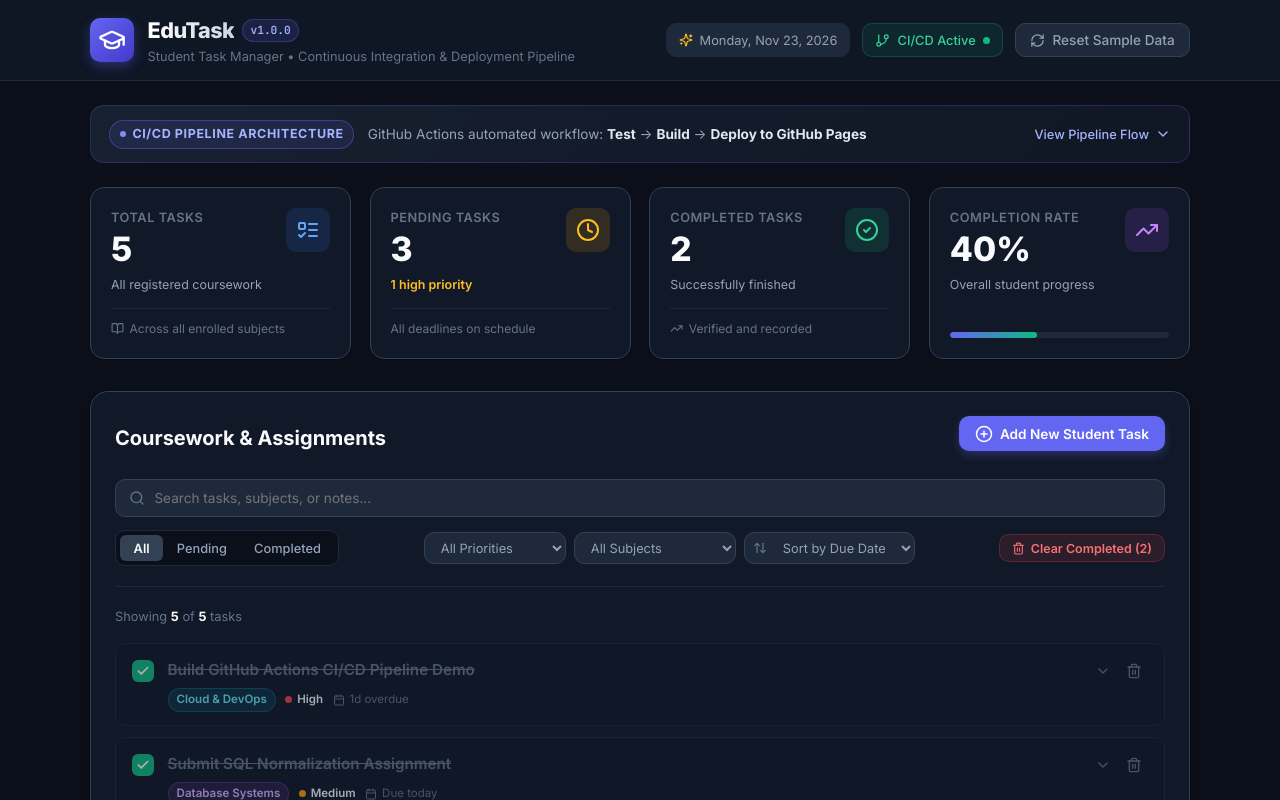
Scenario: Student Task Manager - App & CI/CD Automated Tests › filters tasks by search input
In the field labelled "Search tasks, subjects, or notes...": (640, 498) [115,479,1165,517], type "Binary Search"
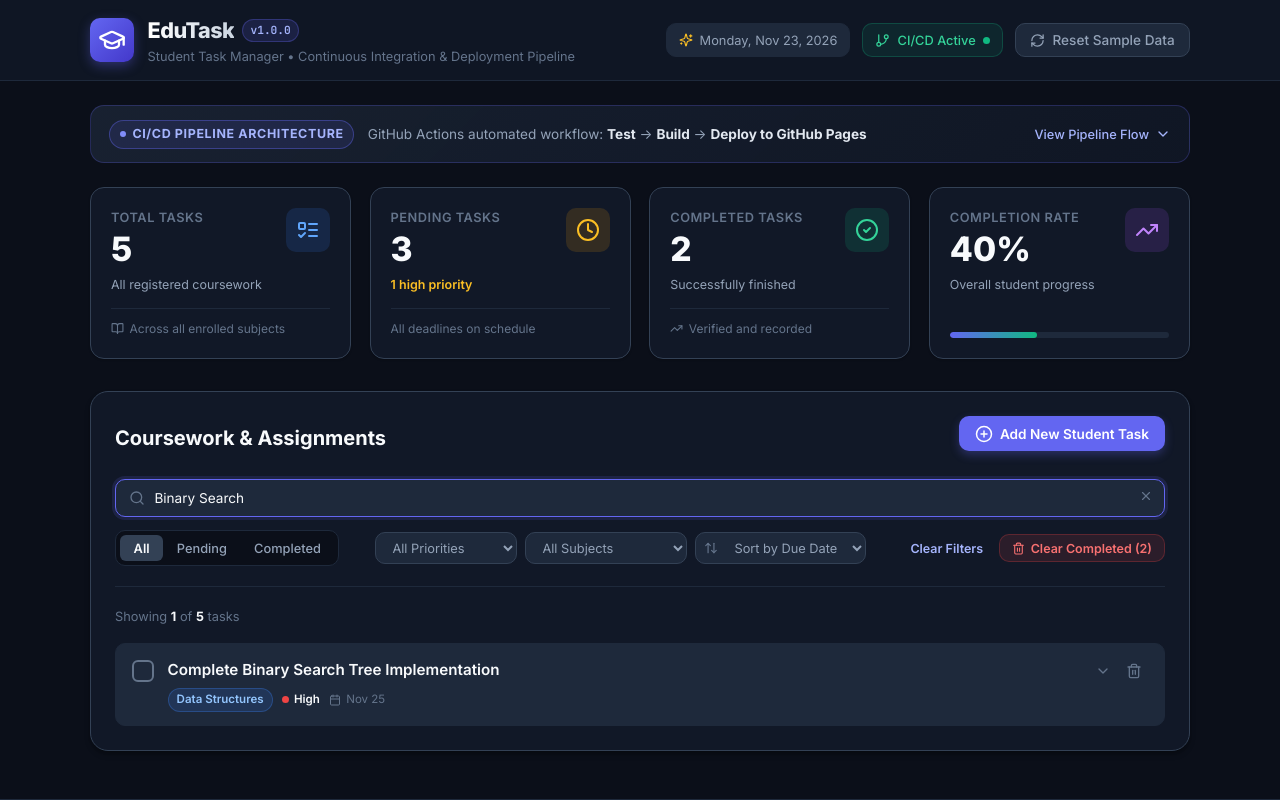
Expected: the text "Complete Binary Search Tree Implementation" is shown, [168,660,500,679]
Result: the text "Submit SQL Normalization Assignment" is gone
